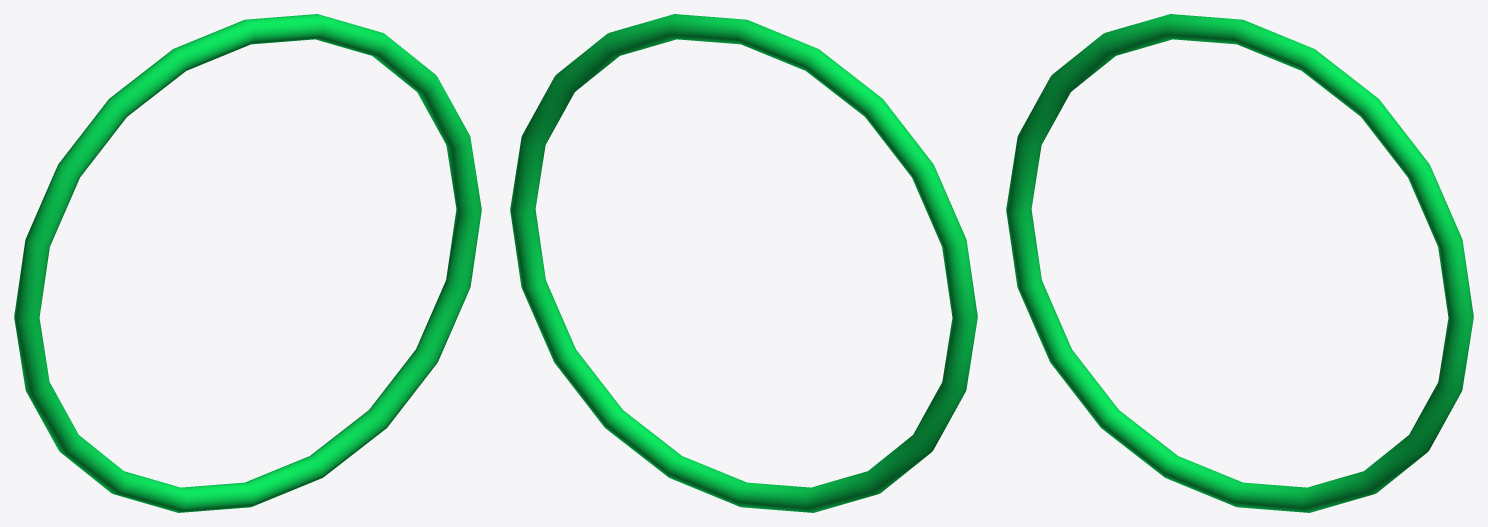
Rendered from CharaEggRing - コピー.fbx.
3 renders of one model, left to right at view 1: azimuth 30°, elevation 25°; view 2: azimuth 150°, elevation 25°; view 3: azimuth 330°, elevation 25°, orthographic.
Visible parts, largest first — view 1: pTorus1; view 2: pTorus1; view 3: pTorus1.
Part boxes in pixels (box(x1,y1,x2,y2)): pTorus1: box(14, 14, 481, 512); pTorus1: box(510, 14, 977, 512); pTorus1: box(1006, 14, 1473, 512).
Size of the model in its own units: 2.1 by 2.1 by 0.1.
